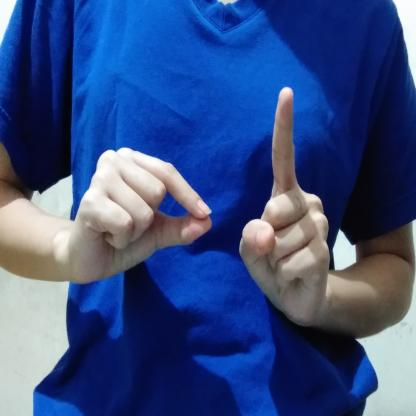son: (72, 81, 342, 337)
